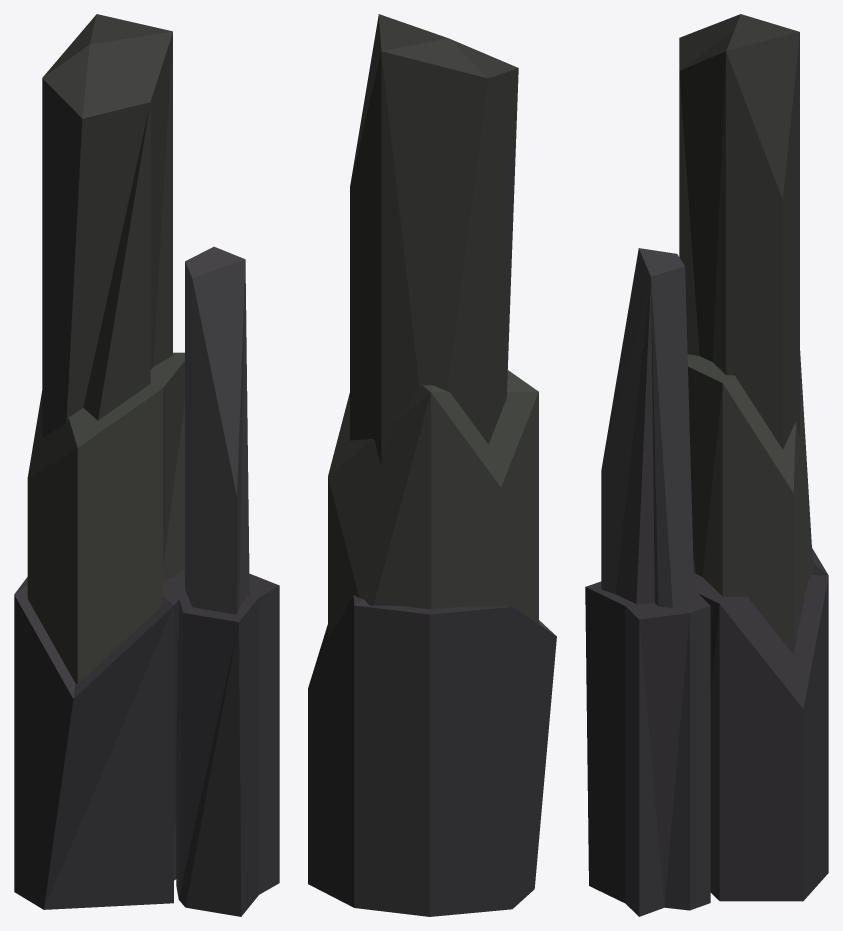
Rendered from AO_Rock01.fbx.
The picture shows the model from 3 angles, left to right: view 1: azimuth 30°, elevation 25°; view 2: azimuth 150°, elevation 25°; view 3: azimuth 270°, elevation 25°; orthographic projection.
Visible parts, largest first — view 1: AO_Rock01; view 2: AO_Rock01; view 3: AO_Rock01.
Part boxes in pixels (x1=…): AO_Rock01: x1=14, y1=14, x2=279, y2=916; AO_Rock01: x1=308, y1=14, x2=556, y2=916; AO_Rock01: x1=585, y1=14, x2=828, y2=916.
Bounding box in the file's own units: 147 × 564 × 149.
1 material, 1 textured.
